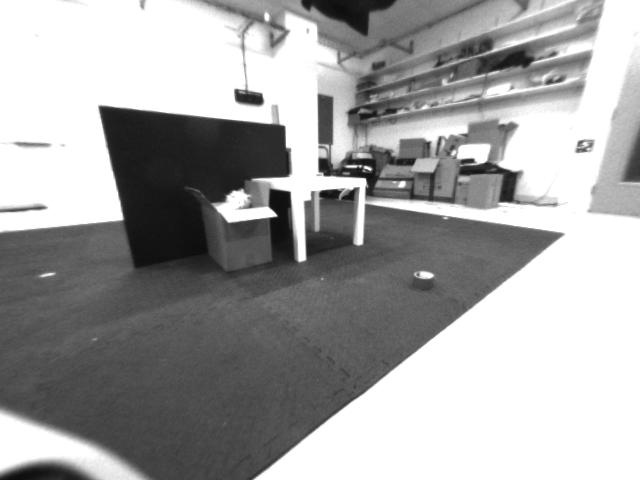dogtoy: (399, 260, 449, 296)
